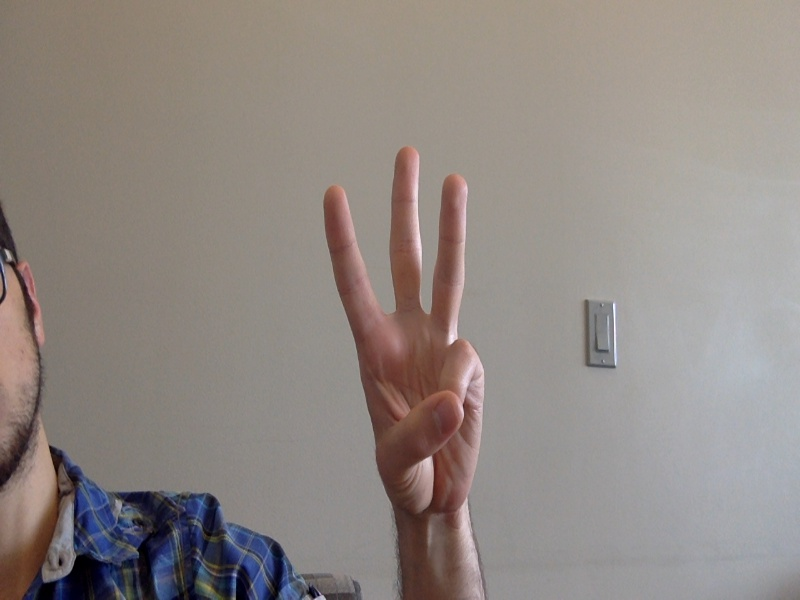3-hand: (325, 146, 485, 522)
